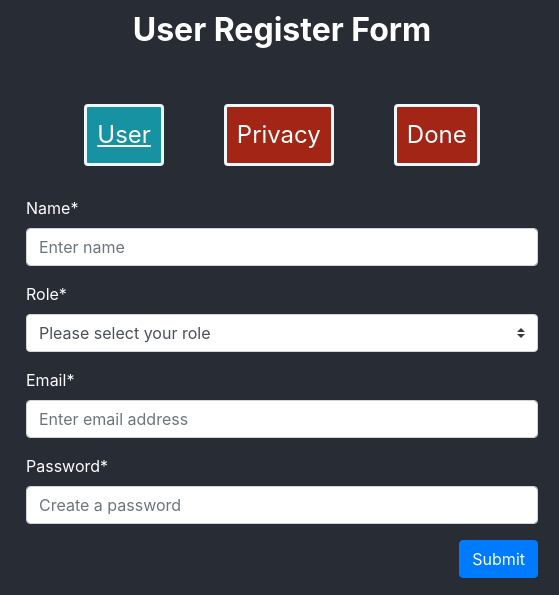
Renders Form Wizard › Can submit and go to next page
In the field with id "textbox_name": {"x": 282, "y": 247} [26,228,538,266], type "test"
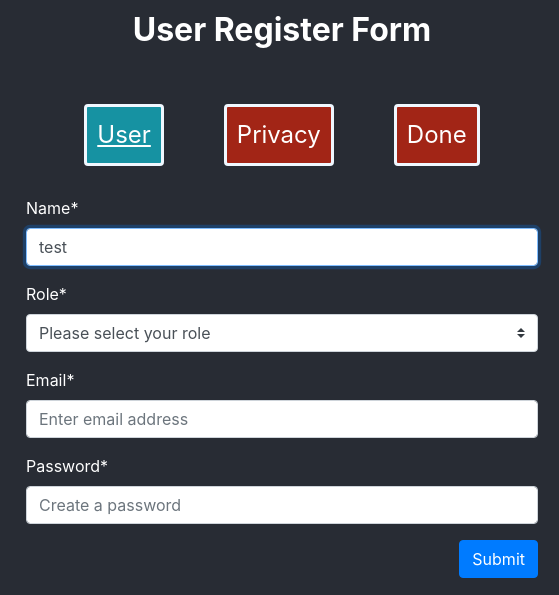
Select "Software engineer" in the dropdown with id "dropdown_role": {"x": 282, "y": 333} [26,314,538,352]
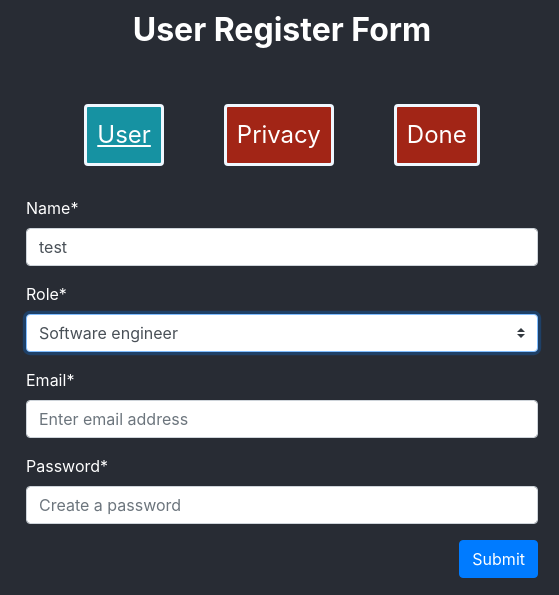
In the field with id "textbox_email": {"x": 282, "y": 419} [26,400,538,438], type "test@gmail.com"
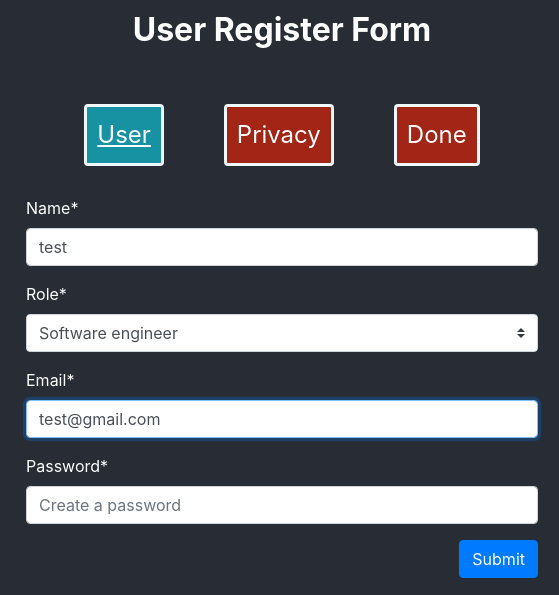
In the password field with id "textbox_password": {"x": 282, "y": 505} [26,486,538,524], type "Password123"
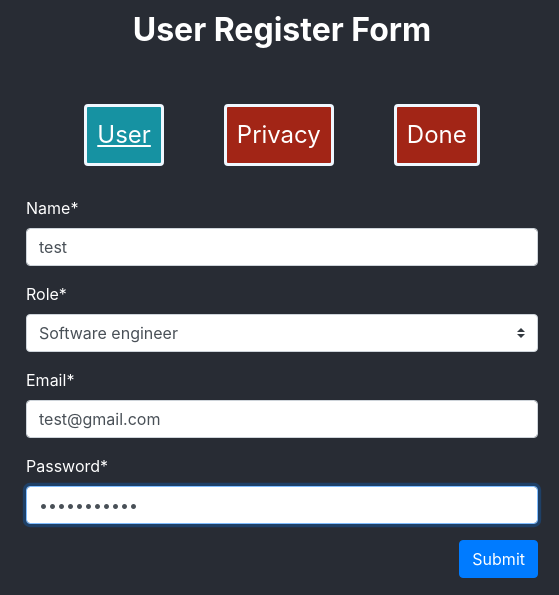
Click the submit button: {"x": 499, "y": 559} [459,540,538,578]
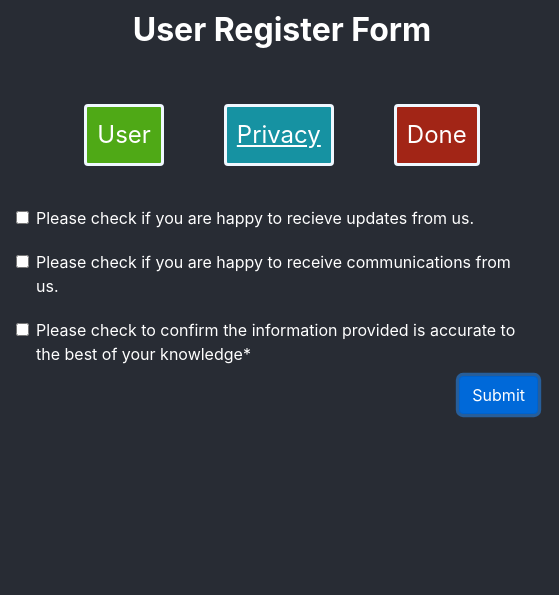
expect the label with id "textbox_name" is gone: met
expect the label with id "textbox_email" is gone: met
expect the label with id "textbox_password" is gone: met
